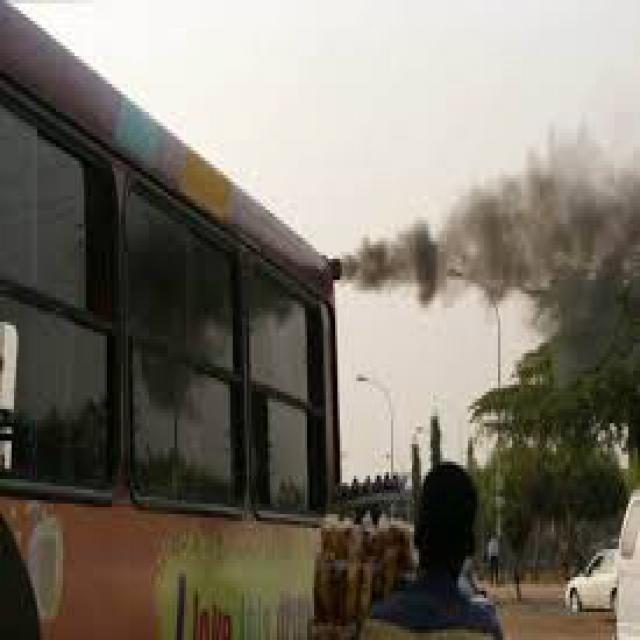Smoke: (280, 162, 640, 394)
